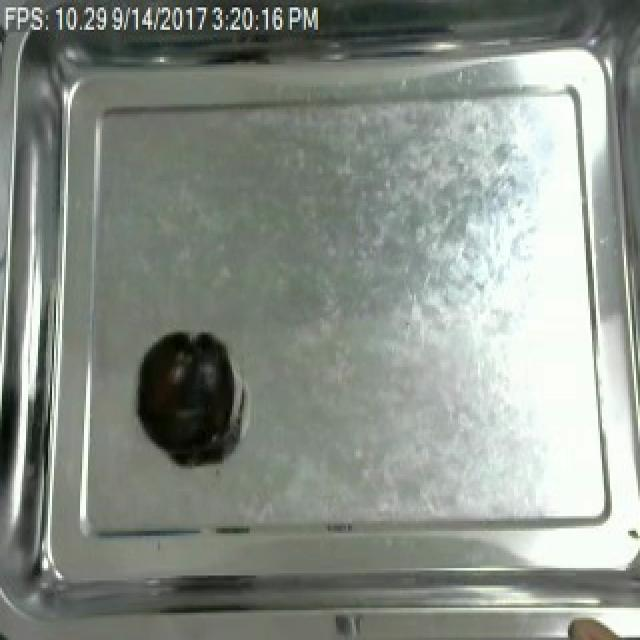Fruit: (134, 330, 236, 459), (556, 608, 638, 640)
